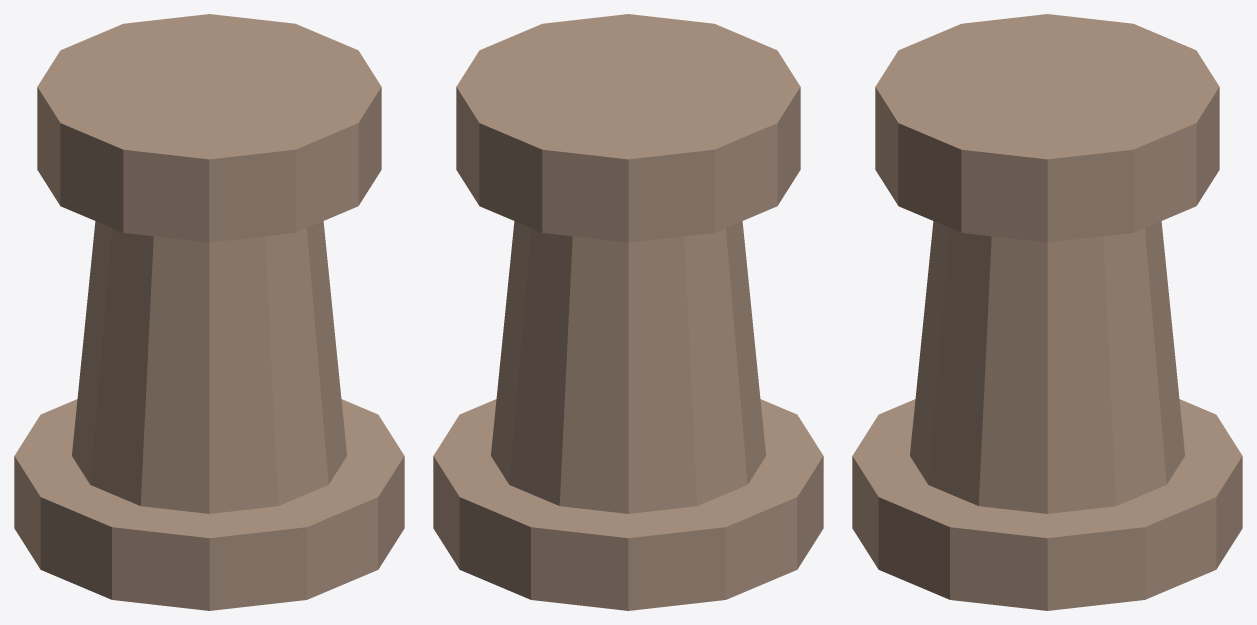
Rendered from mooring_bollard.lod1.glb.
The picture shows the model from 3 angles, left to right: view 1: azimuth 30°, elevation 25°; view 2: azimuth 150°, elevation 25°; view 3: azimuth 270°, elevation 25°; orthographic projection.
Parts seen in each view (by area): view 1: props_mooring_bollard; view 2: props_mooring_bollard; view 3: props_mooring_bollard.
Part boxes in pixels (x1,y1,x2,y2): props_mooring_bollard: [14, 14, 404, 610]; props_mooring_bollard: [433, 14, 823, 610]; props_mooring_bollard: [852, 14, 1242, 610].
Size of the model in its own units: 0.68 by 0.85 by 0.68.
